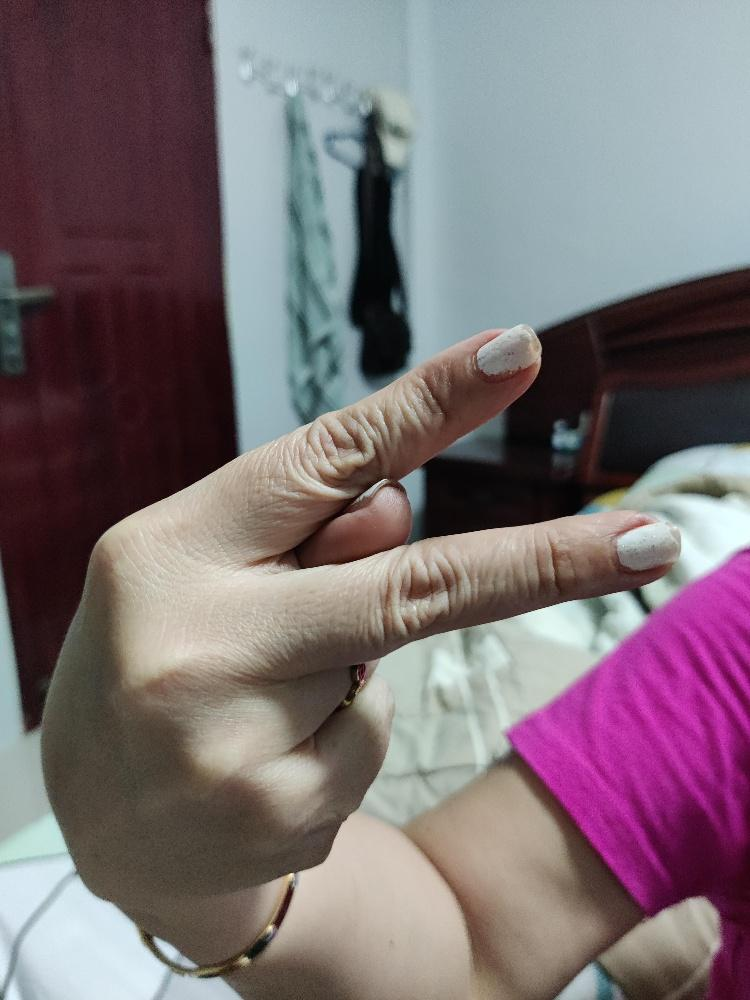k: (36, 320, 683, 886)
